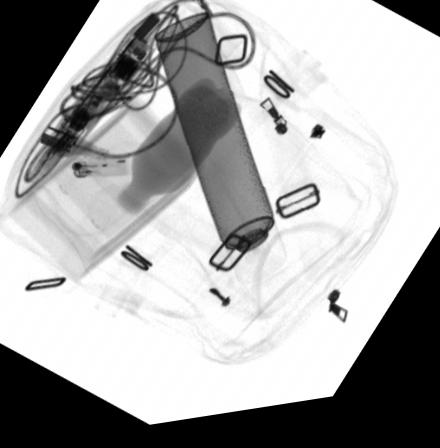Lighter: (73, 162, 126, 179)
Sprayer: (154, 17, 288, 289)
